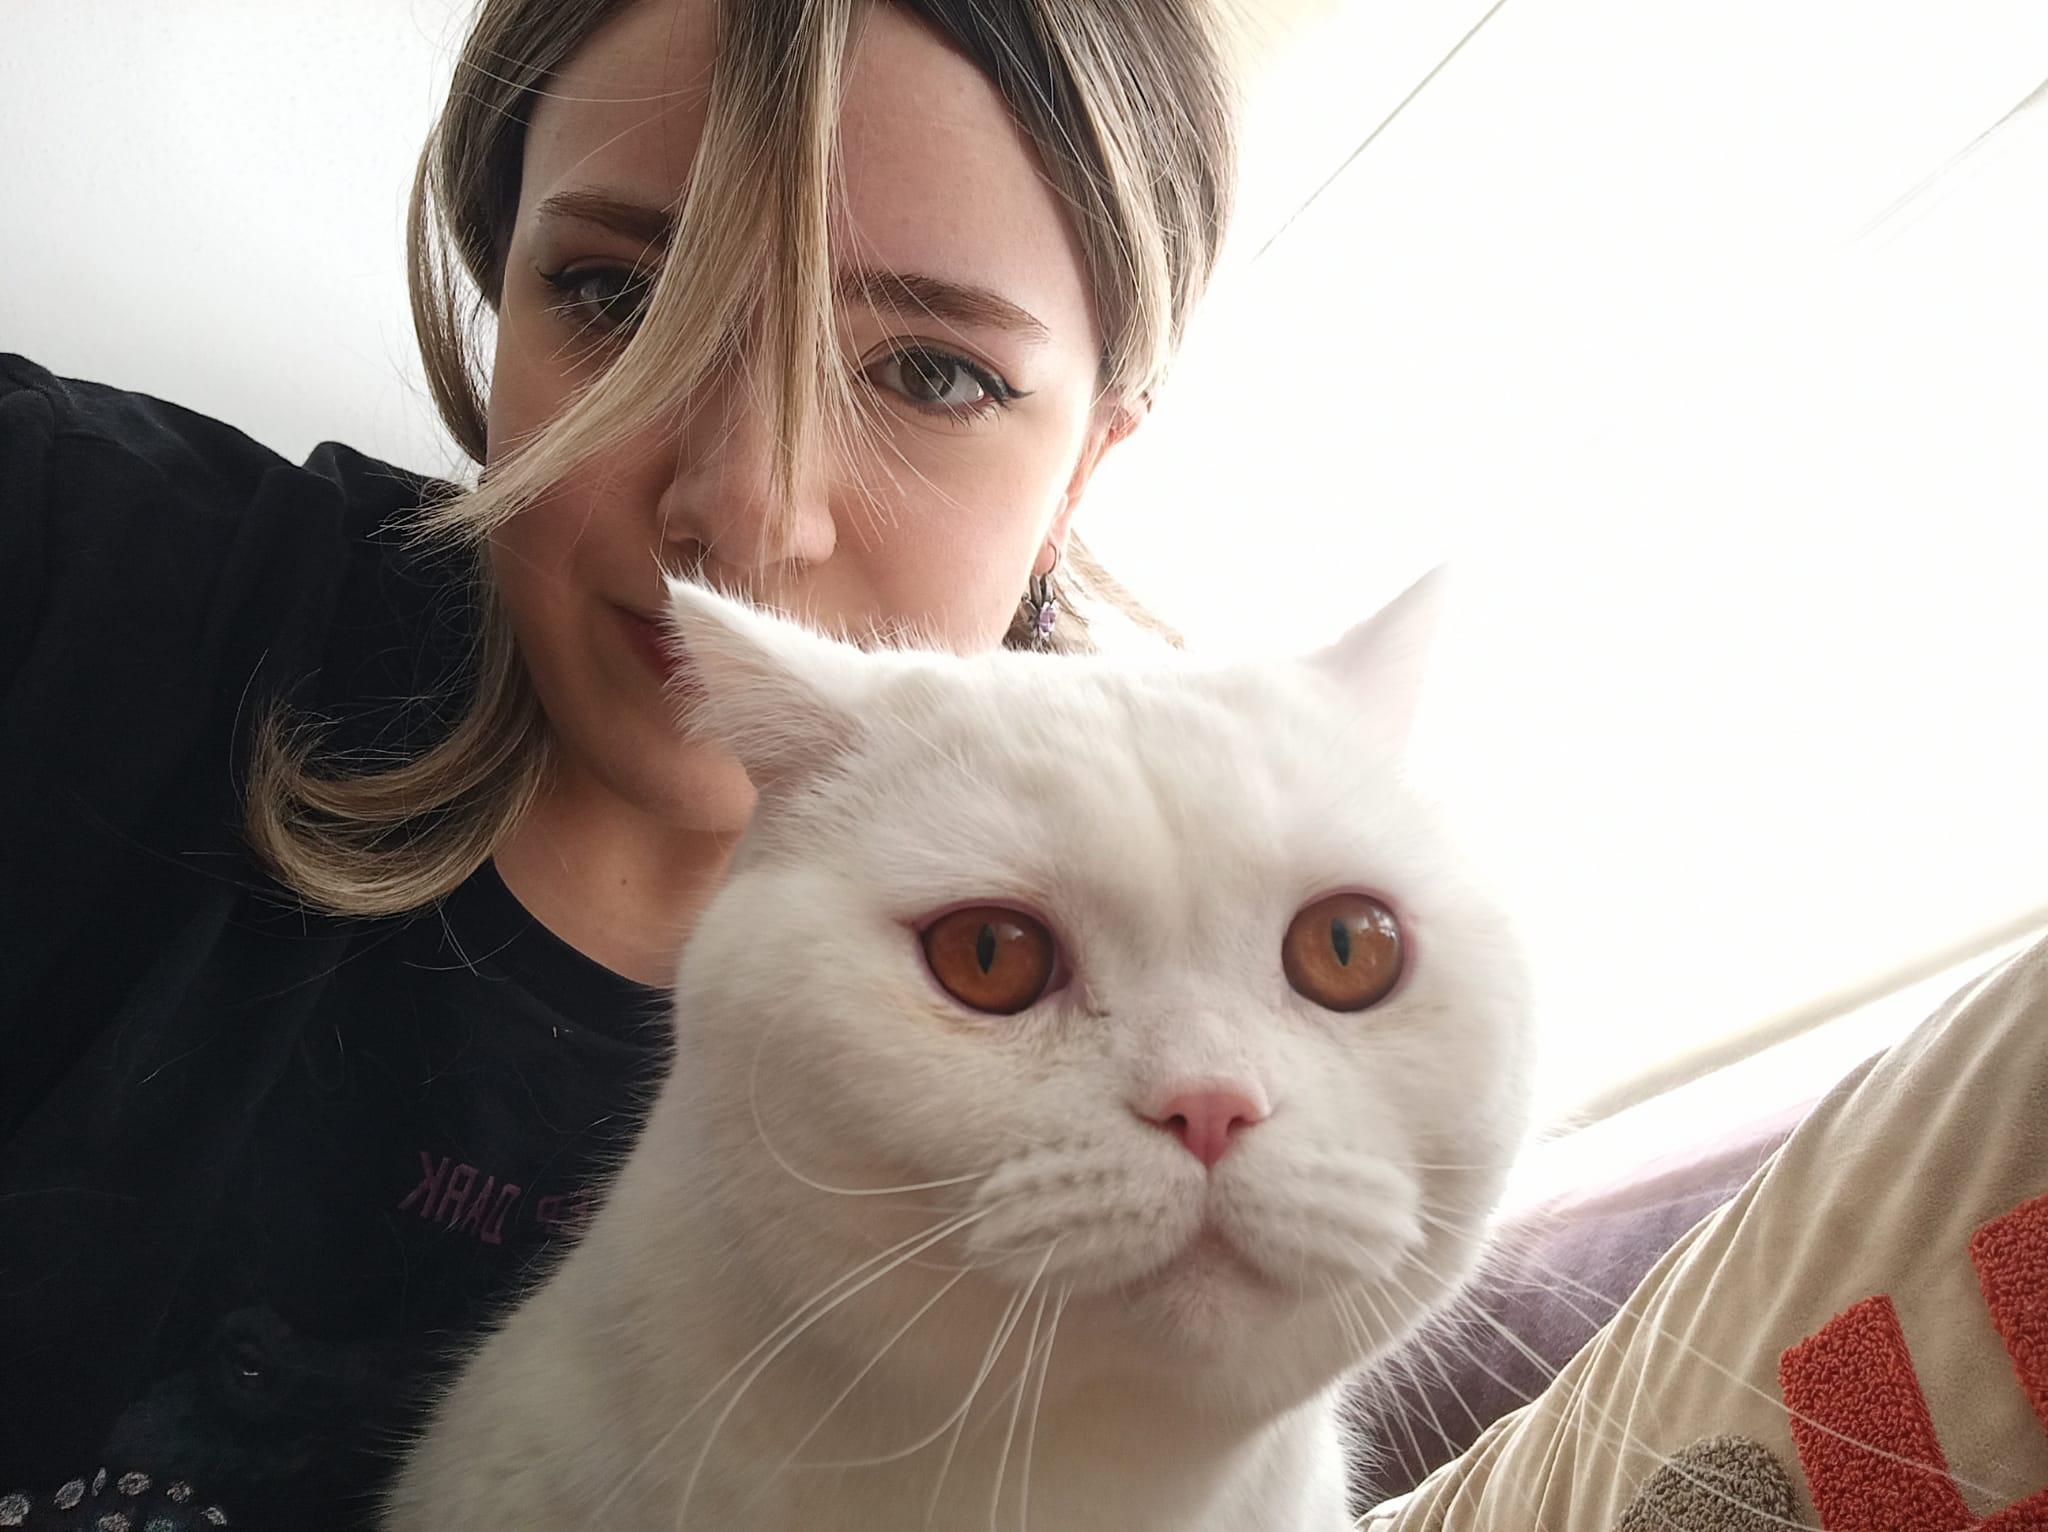kedo: (663, 568, 1538, 1443)
